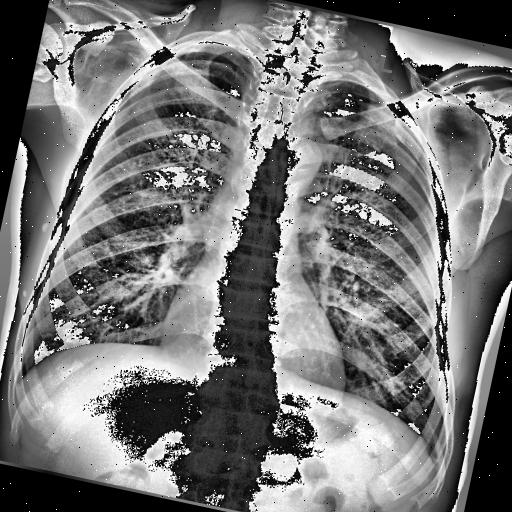13- Pulmonary fibrosis: (322, 85, 367, 121), (318, 86, 360, 122), (327, 83, 360, 124)
5- ILD: (49, 122, 185, 348), (324, 214, 451, 406)
9- Other lesion: (322, 85, 367, 121)
